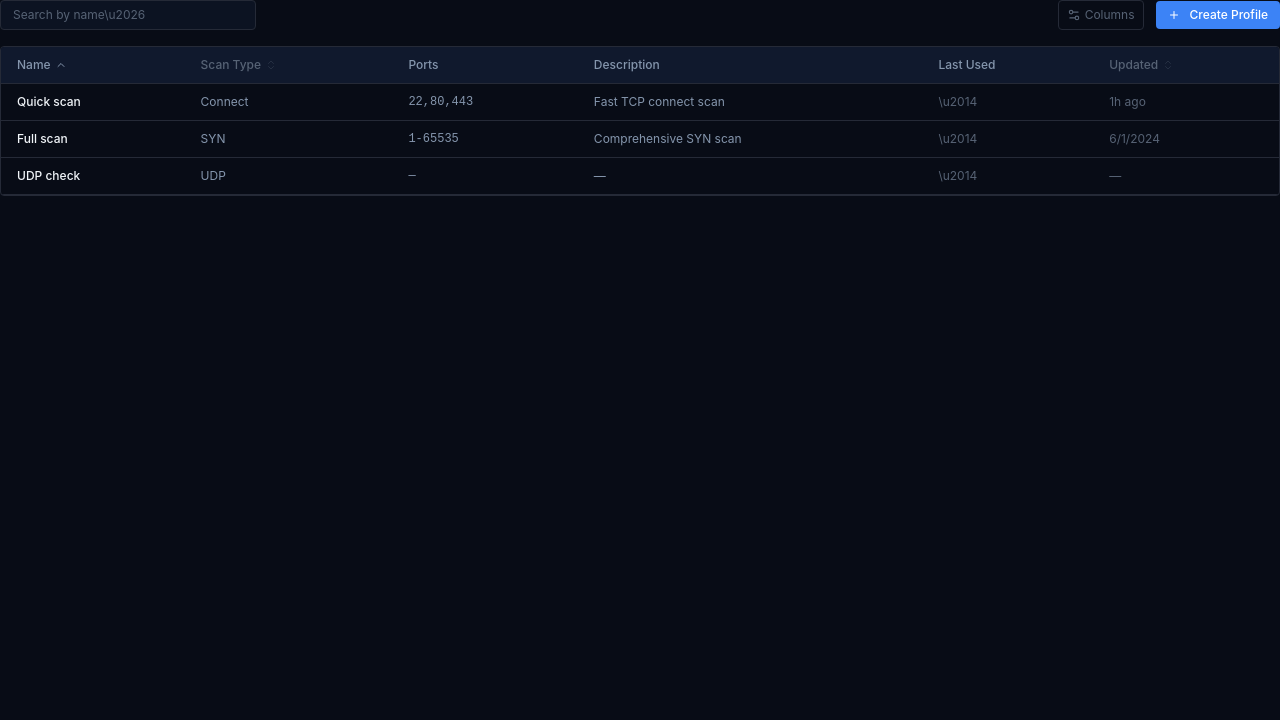
Test: ProfilesPage — detail panel › shows Delete button then confirm prompt on click
Click the text "Quick scan" at (640, 102), box [1,84,1279,120]
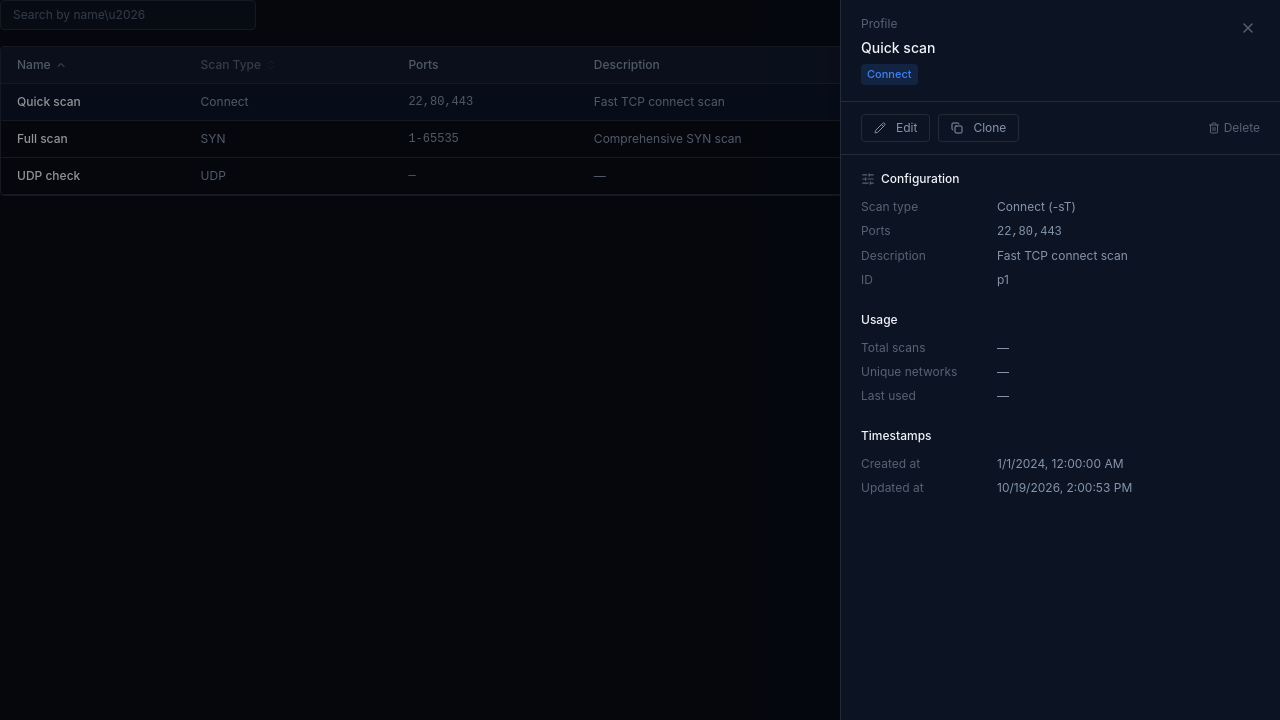
Click the button "Delete" at (1234, 128), box [1208,120,1260,136]
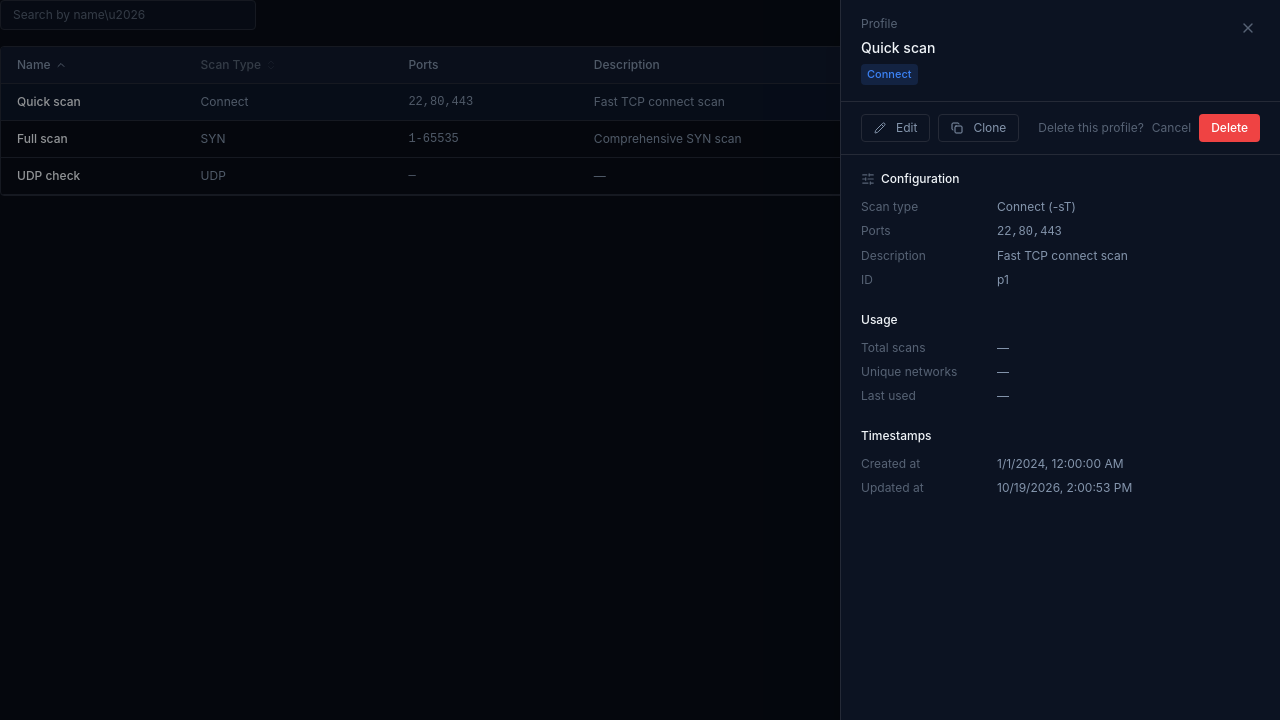
Result: the text "Delete this profile?" is shown at [1038,120,1144,136]
